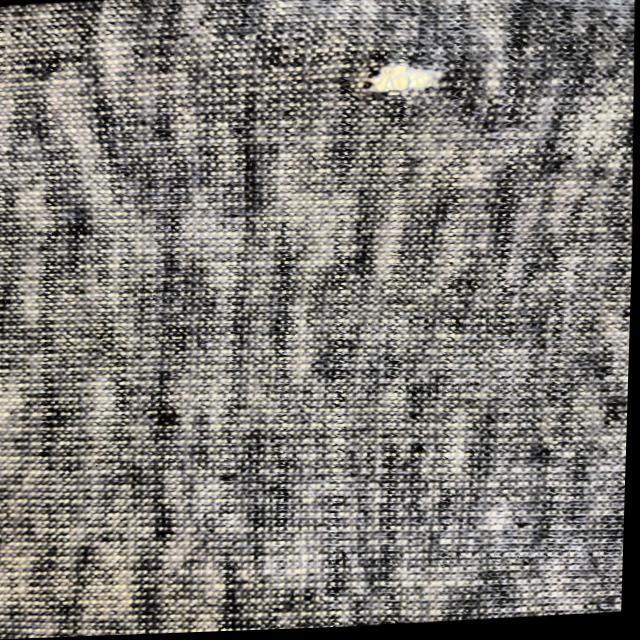Hole: (349, 53, 451, 110)
